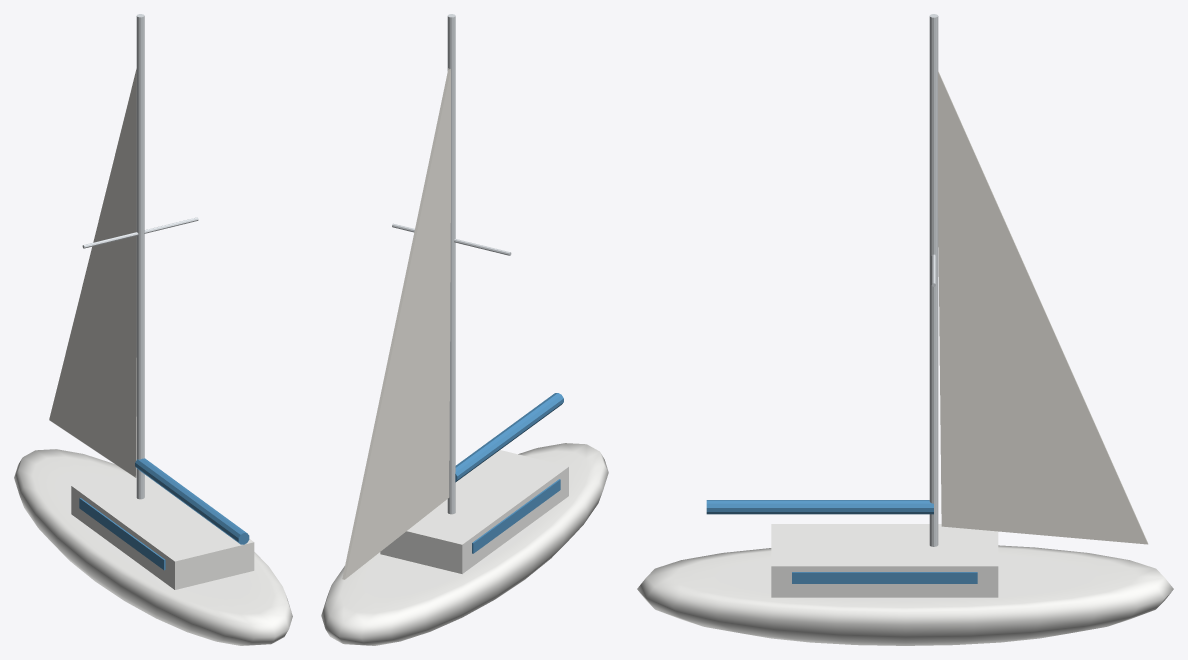
The model's file is Boat_Sailboat.fbx.
The picture shows the model from 3 angles, left to right: view 1: azimuth 30°, elevation 25°; view 2: azimuth 150°, elevation 25°; view 3: azimuth 270°, elevation 25°; orthographic projection. The views are drawn at different scales.
Visible parts, largest first — view 1: Sail_Jib, Sphere, Cube, Cylinder, Cylinder.001, Cube.001, Cylinder.002; view 2: Sail_Jib, Sphere, Cube, Cylinder, Cylinder.001, Cube.001; view 3: Sail_Jib, Sphere, Cube, Cylinder, Cylinder.001, Cube.001.
Boxes of the visible parts, x1,y1,x2,y2 form: Sail_Jib: [49, 69, 136, 477]; Sphere: [14, 449, 292, 645]; Cube: [71, 472, 254, 589]; Cylinder: [136, 14, 144, 499]; Cylinder.001: [135, 458, 249, 544]; Cube.001: [79, 498, 165, 570]; Cylinder.002: [82, 217, 198, 248]; Sail_Jib: [342, 68, 450, 579]; Sphere: [321, 443, 608, 645]; Cube: [380, 450, 568, 573]; Cylinder: [447, 14, 455, 514]; Cylinder.001: [455, 393, 563, 482]; Cube.001: [472, 479, 560, 553]; Sail_Jib: [938, 71, 1148, 544]; Sphere: [637, 545, 1173, 645]; Cube: [771, 524, 998, 597]; Cylinder: [929, 14, 938, 546]; Cylinder.001: [706, 500, 933, 514]; Cube.001: [792, 572, 977, 583].
Bounding box in the file's own units: 3.3 × 13.2 × 10.4.
